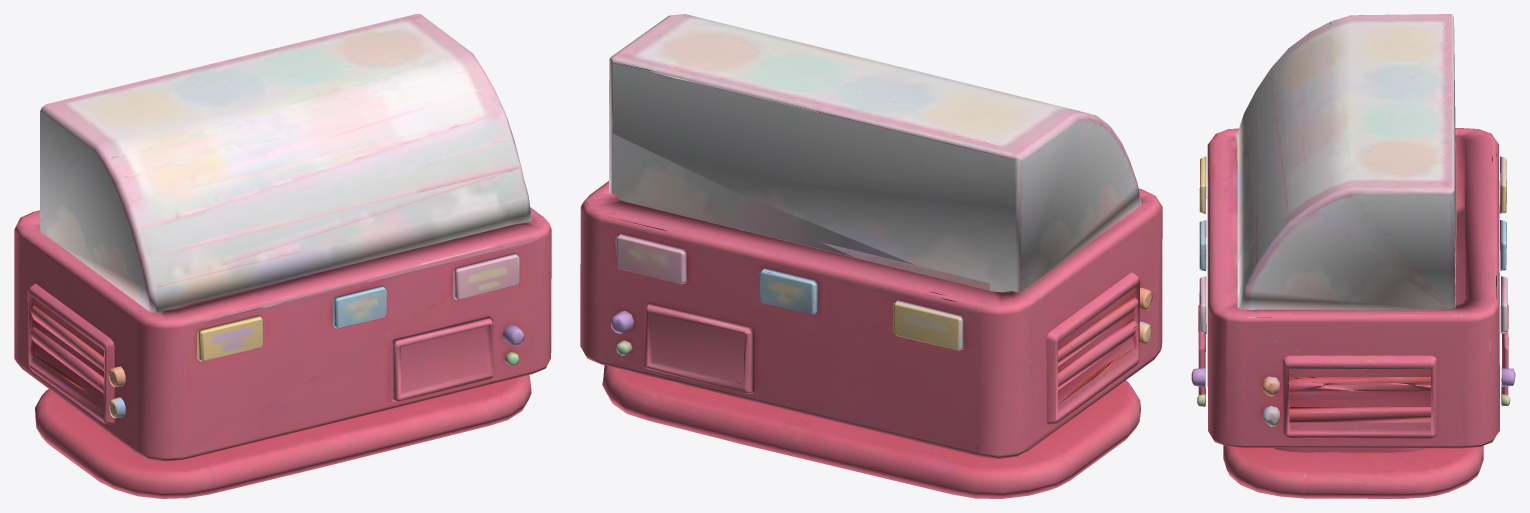
File: icecream-freezer.glb
3 renders of one model, left to right at view 1: azimuth 30°, elevation 25°; view 2: azimuth 150°, elevation 25°; view 3: azimuth 270°, elevation 25°, orthographic. The views are drawn at different scales.
Parts seen in each view (by area): view 1: geometry_0; view 2: geometry_0; view 3: geometry_0.
Part boxes in pixels (bbox=[...]): geometry_0: bbox=[14, 14, 551, 498]; geometry_0: bbox=[580, 14, 1162, 498]; geometry_0: bbox=[1191, 14, 1515, 498].
Bounding box in the file's own units: 1 × 0.7067 × 0.6895.
Materials: 1 (1 with a texture image).
